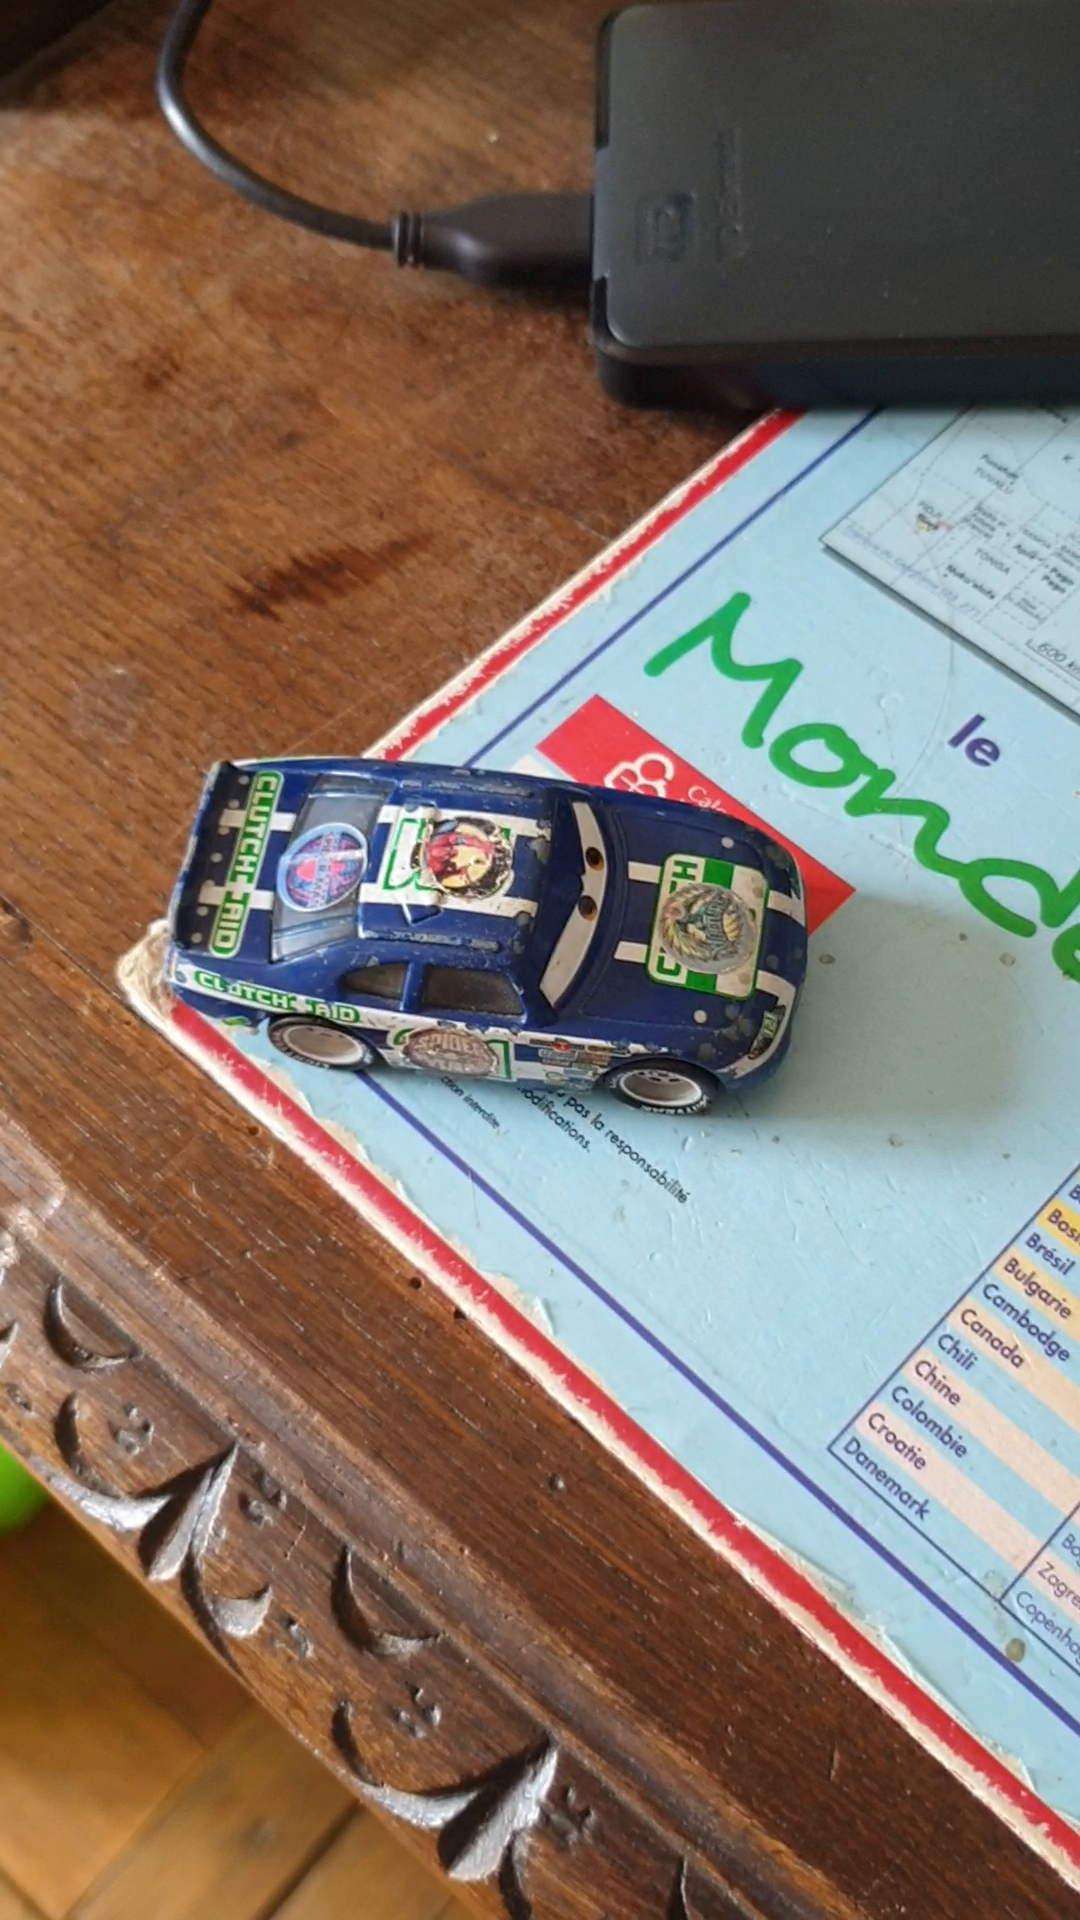cars: (160, 761, 804, 1122)
